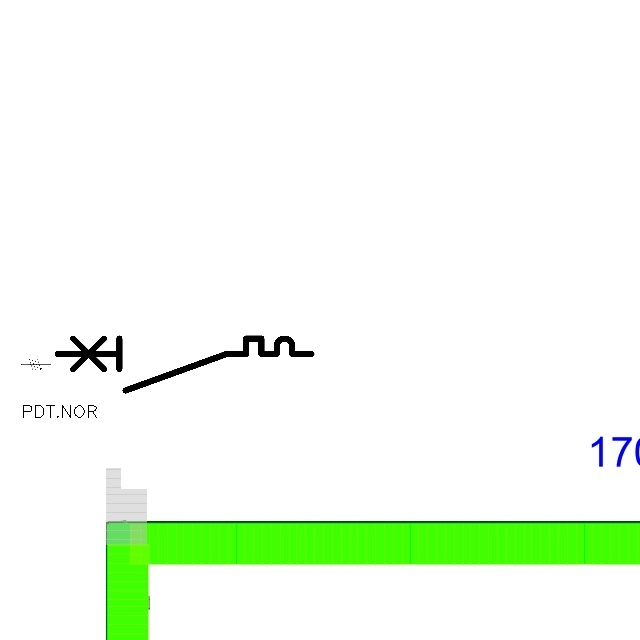interruptor_termomagnetico: (51, 332, 318, 397)
